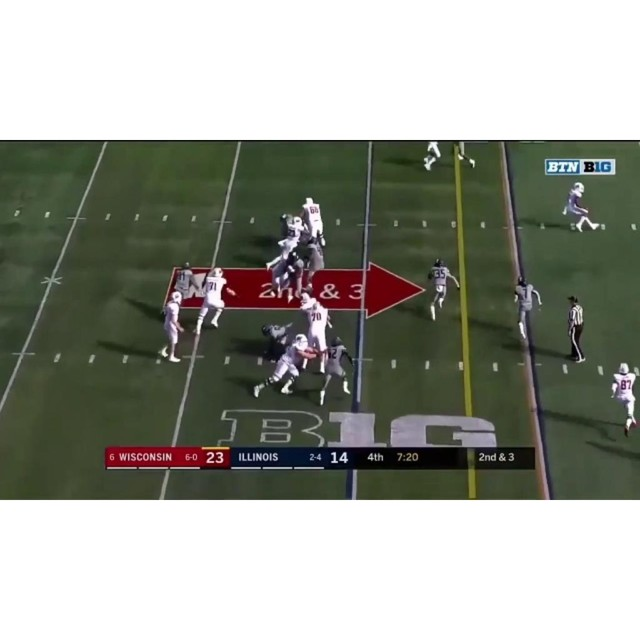american-football-player: (252, 333, 313, 399), (194, 267, 236, 333), (318, 336, 355, 405), (301, 295, 332, 370), (561, 181, 603, 234), (265, 241, 302, 300), (158, 291, 187, 363), (610, 364, 639, 435), (428, 258, 460, 322), (163, 262, 203, 312), (301, 196, 326, 246), (259, 321, 294, 356)
referee: (511, 276, 542, 345), (564, 294, 586, 364)
